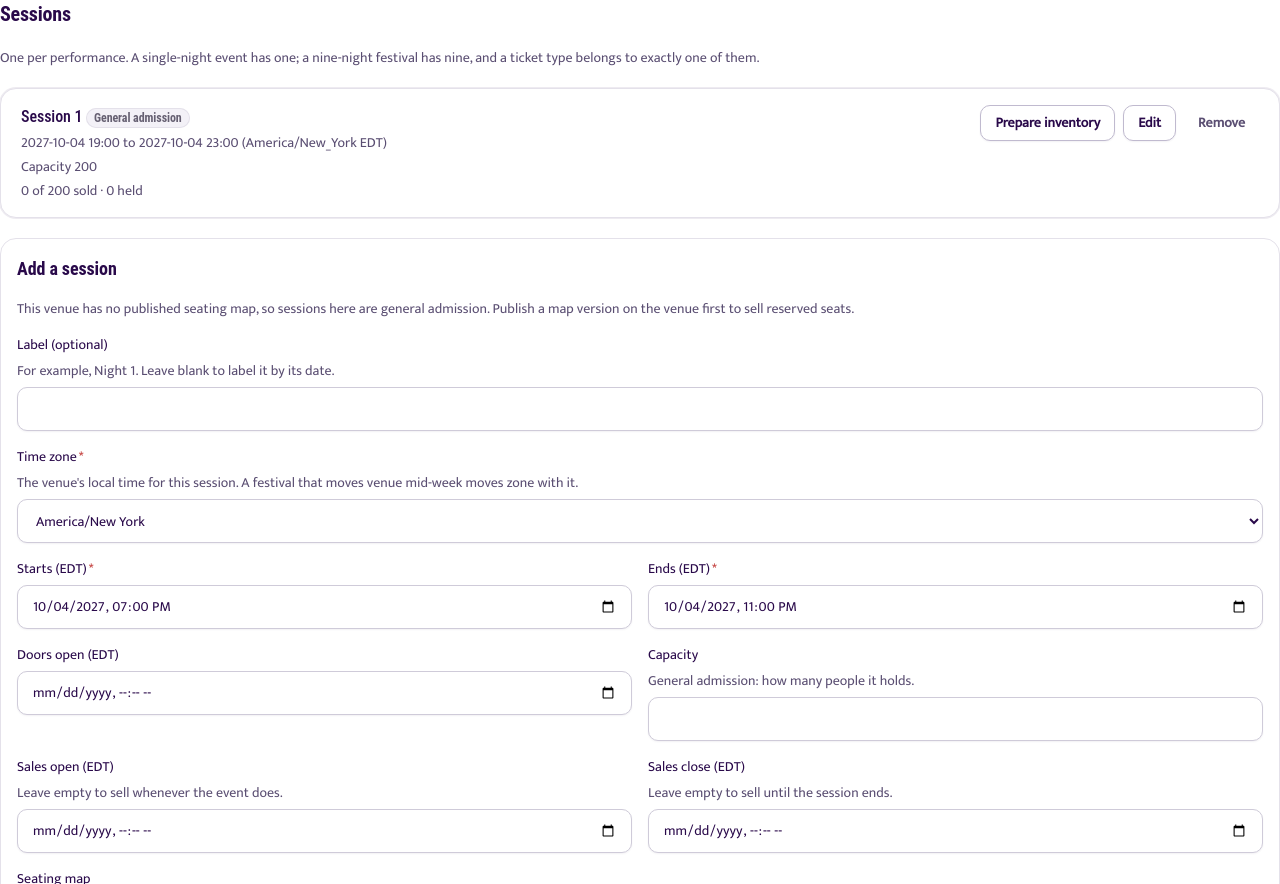
Test: removing a session › asks first, then sends the revision in the query string and no body
Click the button with aria-label "Remove session 1". click: (1222, 123)
box: [1184,105,1259,141]
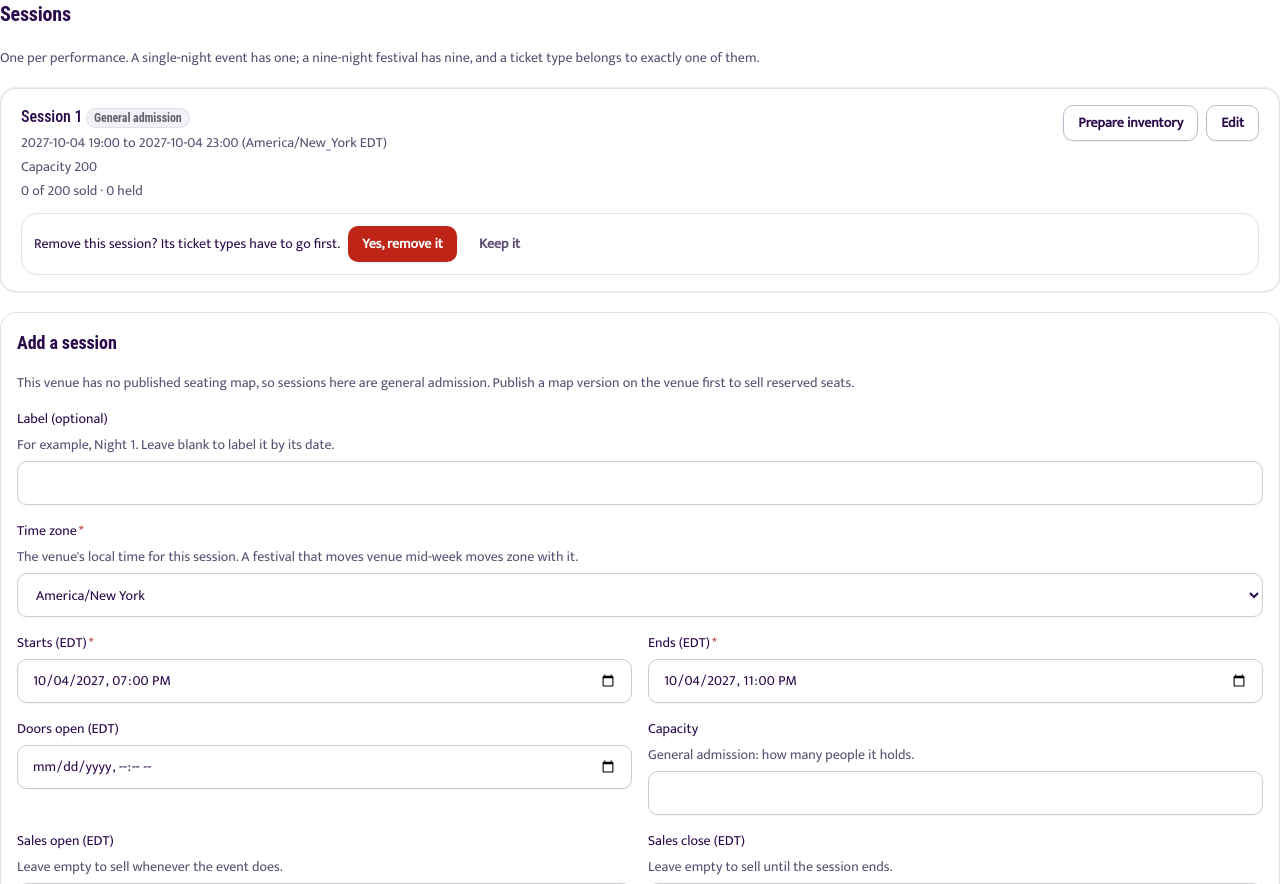
Click the button "Yes, remove it". click: (403, 244)
box: [348,226,457,262]
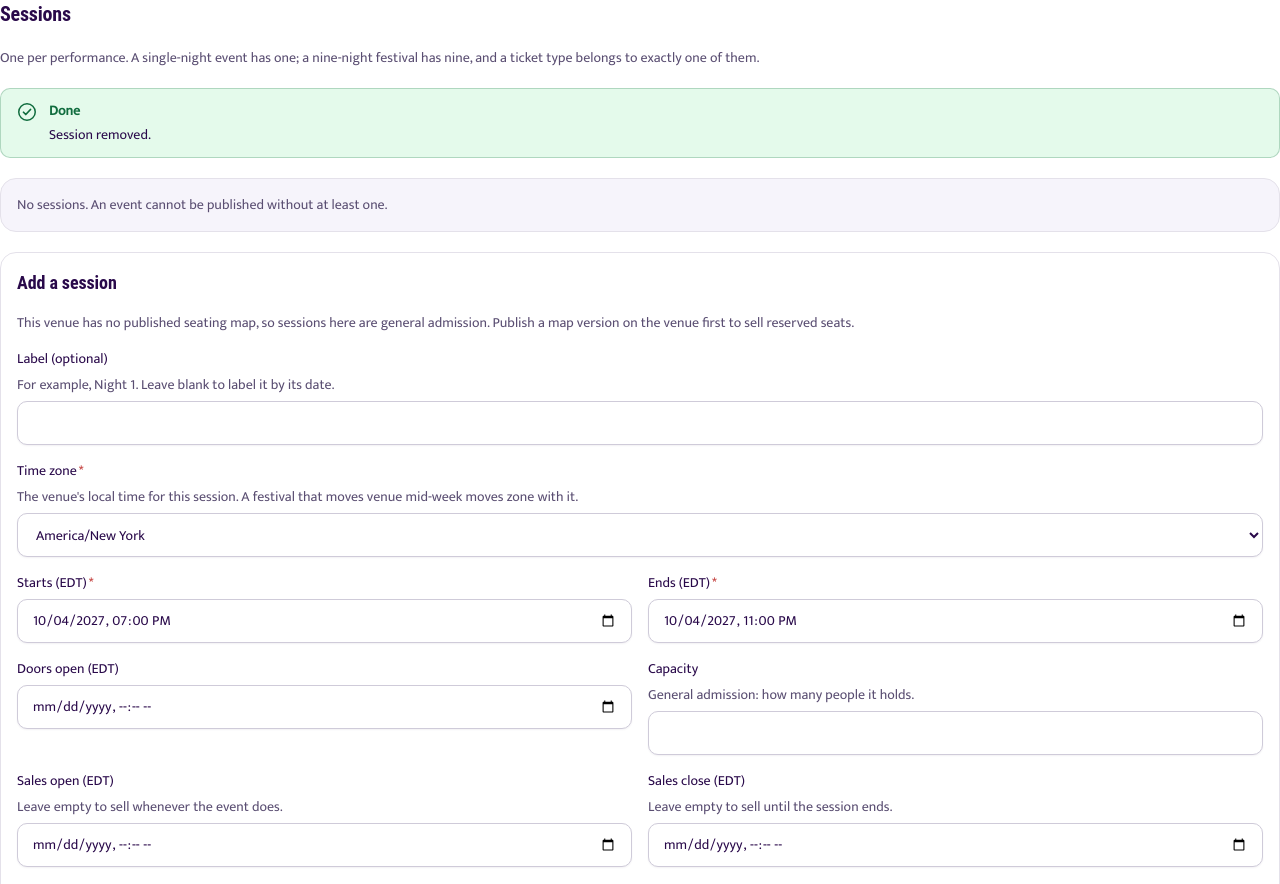
Result: the text "No sessions. An event cannot be published" is shown at [17,193,388,216]
